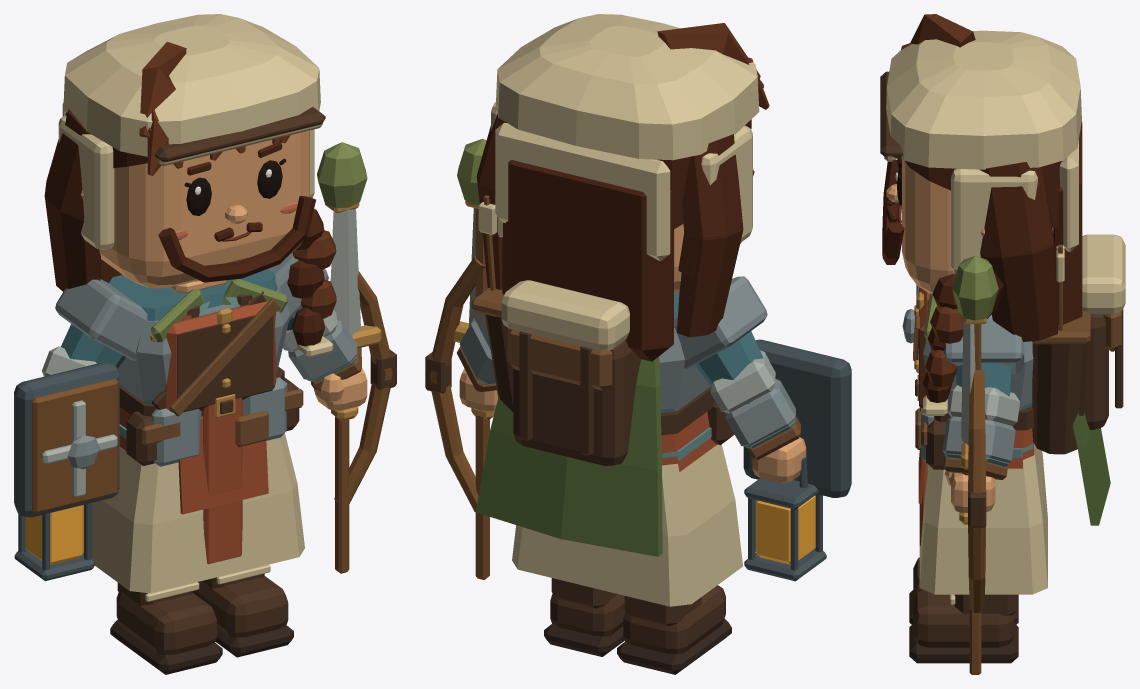
File: NPC_Modular_Library.glb
3 views of the same model, side by side, from view 1: azimuth 30°, elevation 25°; view 2: azimuth 150°, elevation 25°; view 3: azimuth 270°, elevation 25° (orthographic). The views are drawn at different scales.
Visible parts, largest first — view 1: SM_NPC_Headgear_01_Hood, SM_NPC_Torso_04_Robe, SM_NPC_Head_01_Masculine, SM_NPC_Offhand_01_Shield, SM_NPC_Feet_01_Boots, SM_NPC_Torso_03_Archer, SM_NPC_Arms_02_Armor, SM_NPC_Torso_02_Armor, SM_NPC_Mainhand_03_Staff, SM_NPC_Torso_06_Healer, SM_NPC_Offhand_02_Lantern, SM_NPC_Hair_04_Braid (+15 smaller); view 2: SM_NPC_Headgear_01_Hood, SM_NPC_Back_03_Pack, SM_NPC_Hair_02_Bob, SM_NPC_Back_01_Cape, SM_NPC_Torso_04_Robe, SM_NPC_Hair_03_Long, SM_NPC_Feet_01_Boots, SM_NPC_Arms_02_Armor, SM_NPC_Offhand_01_Shield, SM_NPC_Offhand_02_Lantern, SM_NPC_Arms_01_Cloth, SM_NPC_Mainhand_02_Bow (+10 smaller); view 3: SM_NPC_Headgear_01_Hood, SM_NPC_Torso_04_Robe, SM_NPC_Hair_03_Long, SM_NPC_Back_03_Pack, SM_NPC_Feet_01_Boots, SM_NPC_Back_02_Quiver, SM_NPC_Head_01_Masculine, SM_NPC_Arms_02_Armor, SM_NPC_Hair_02_Bob, SM_NPC_Mainhand_02_Bow, SM_NPC_Hair_04_Braid, SM_NPC_Mainhand_03_Staff (+14 smaller).
Boxes of the visible parts, box(x1,y1,x2,y2) form: SM_NPC_Headgear_01_Hood: box(58, 14, 322, 249); SM_NPC_Torso_04_Robe: box(83, 294, 304, 593); SM_NPC_Head_01_Masculine: box(81, 130, 309, 288); SM_NPC_Offhand_01_Shield: box(14, 362, 119, 517); SM_NPC_Feet_01_Boots: box(110, 573, 293, 674); SM_NPC_Torso_03_Archer: box(151, 279, 287, 416); SM_NPC_Arms_02_Armor: box(42, 253, 357, 380); SM_NPC_Torso_02_Armor: box(117, 288, 290, 466); SM_NPC_Mainhand_03_Staff: box(317, 142, 367, 573); SM_NPC_Torso_06_Healer: box(119, 297, 268, 514); SM_NPC_Offhand_02_Lantern: box(14, 503, 94, 581); SM_NPC_Hair_04_Braid: box(287, 209, 336, 357); SM_NPC_Headgear_01_Hood: box(491, 14, 759, 260); SM_NPC_Back_03_Pack: box(501, 280, 640, 465); SM_NPC_Hair_02_Bob: box(477, 113, 743, 286); SM_NPC_Back_01_Cape: box(476, 356, 662, 556); SM_NPC_Torso_04_Robe: box(512, 444, 742, 606); SM_NPC_Hair_03_Long: box(476, 134, 743, 361); SM_NPC_Feet_01_Boots: box(544, 578, 731, 674); SM_NPC_Arms_02_Armor: box(459, 276, 796, 446); SM_NPC_Offhand_01_Shield: box(743, 339, 851, 497); SM_NPC_Offhand_02_Lantern: box(744, 457, 826, 581); SM_NPC_Arms_01_Cloth: box(457, 331, 806, 482); SM_NPC_Mainhand_02_Bow: box(425, 256, 485, 512); SM_NPC_Headgear_01_Hood: box(884, 30, 1081, 273); SM_NPC_Torso_04_Robe: box(919, 407, 1047, 594); SM_NPC_Hair_03_Long: box(979, 164, 1082, 341); SM_NPC_Back_03_Pack: box(1082, 234, 1125, 429); SM_NPC_Feet_01_Boots: box(909, 557, 1018, 663); SM_NPC_Back_02_Quiver: box(1032, 244, 1090, 454); SM_NPC_Head_01_Masculine: box(886, 158, 1053, 293); SM_NPC_Arms_02_Armor: box(942, 314, 1023, 462); SM_NPC_Hair_02_Bob: box(980, 121, 1082, 277); SM_NPC_Mainhand_02_Bow: box(968, 370, 986, 612); SM_NPC_Hair_04_Braid: box(923, 272, 1003, 415); SM_NPC_Mainhand_03_Staff: box(952, 255, 998, 674).
Size of the model in its own units: 1.33 by 1.95 by 0.735.
